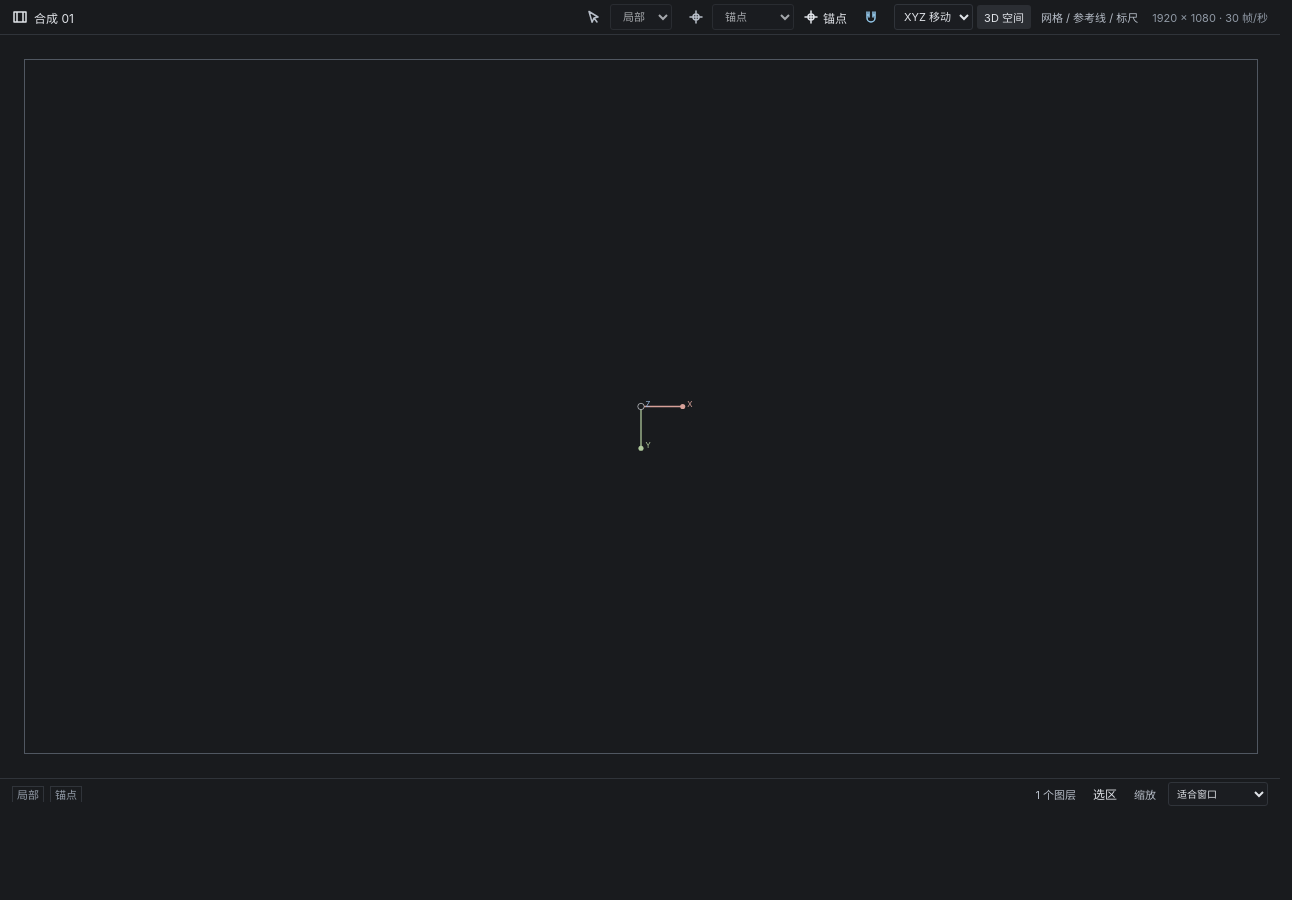
Test case: 主预览打开旁侧空间视图不改工程；辅助入口复用关闭行为与可见反馈
Click the button with aria-label "三维图层查看工具" at [1004, 17], box [977,5,1031,29]
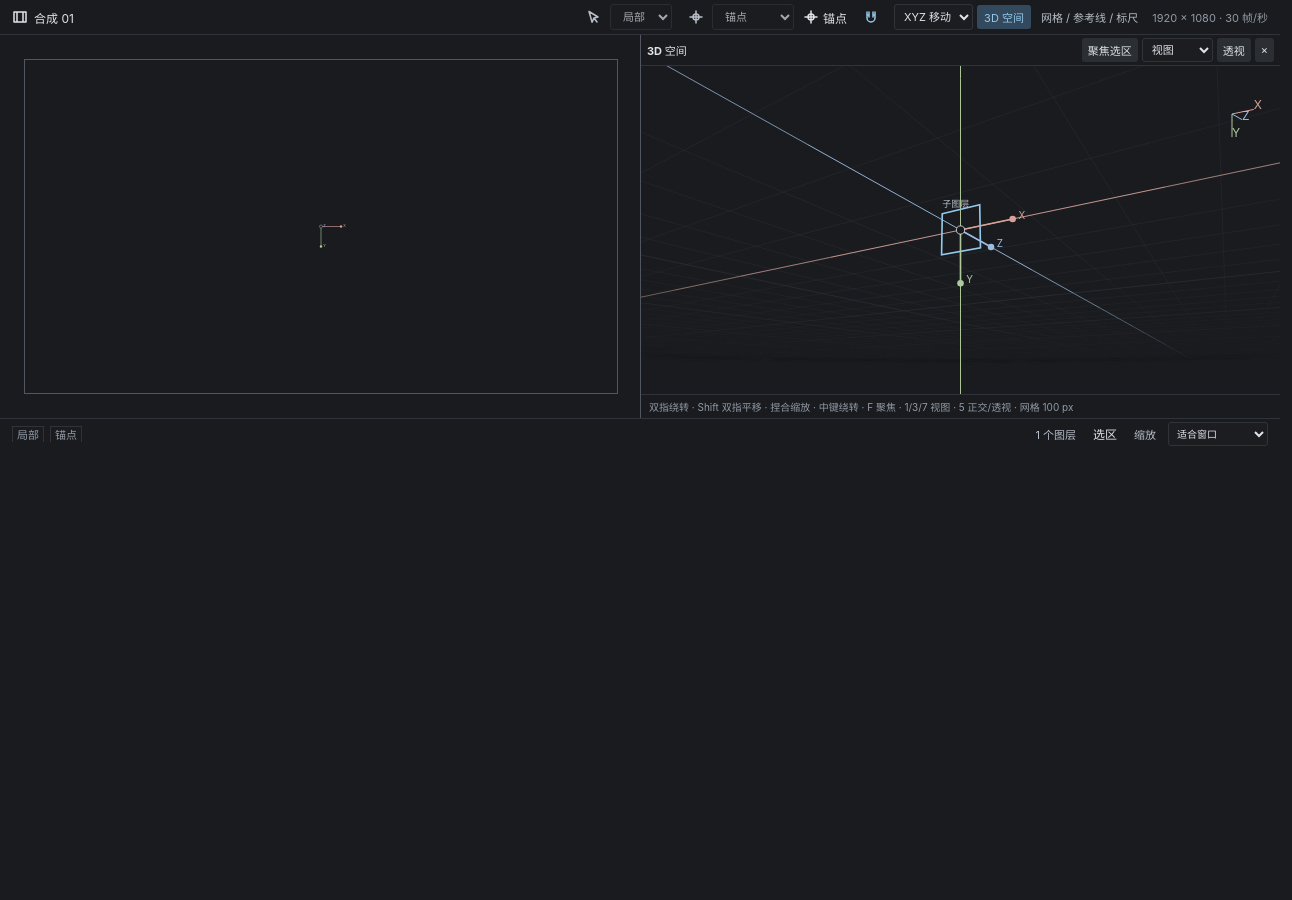
Now the element named "三维空间预览" is shown, box [640,35,1280,418]
Now the number of icons named "三维 XYZ 操控手柄" is 2, box [25,60,617,393]; [641,66,1280,394]
Now the drawing named "三维图层渲染预览" is shown, box [641,66,1280,394]
Click the heading "网格 / 参考线 / 标尺" at [1090, 18], box [1041,11,1138,25]
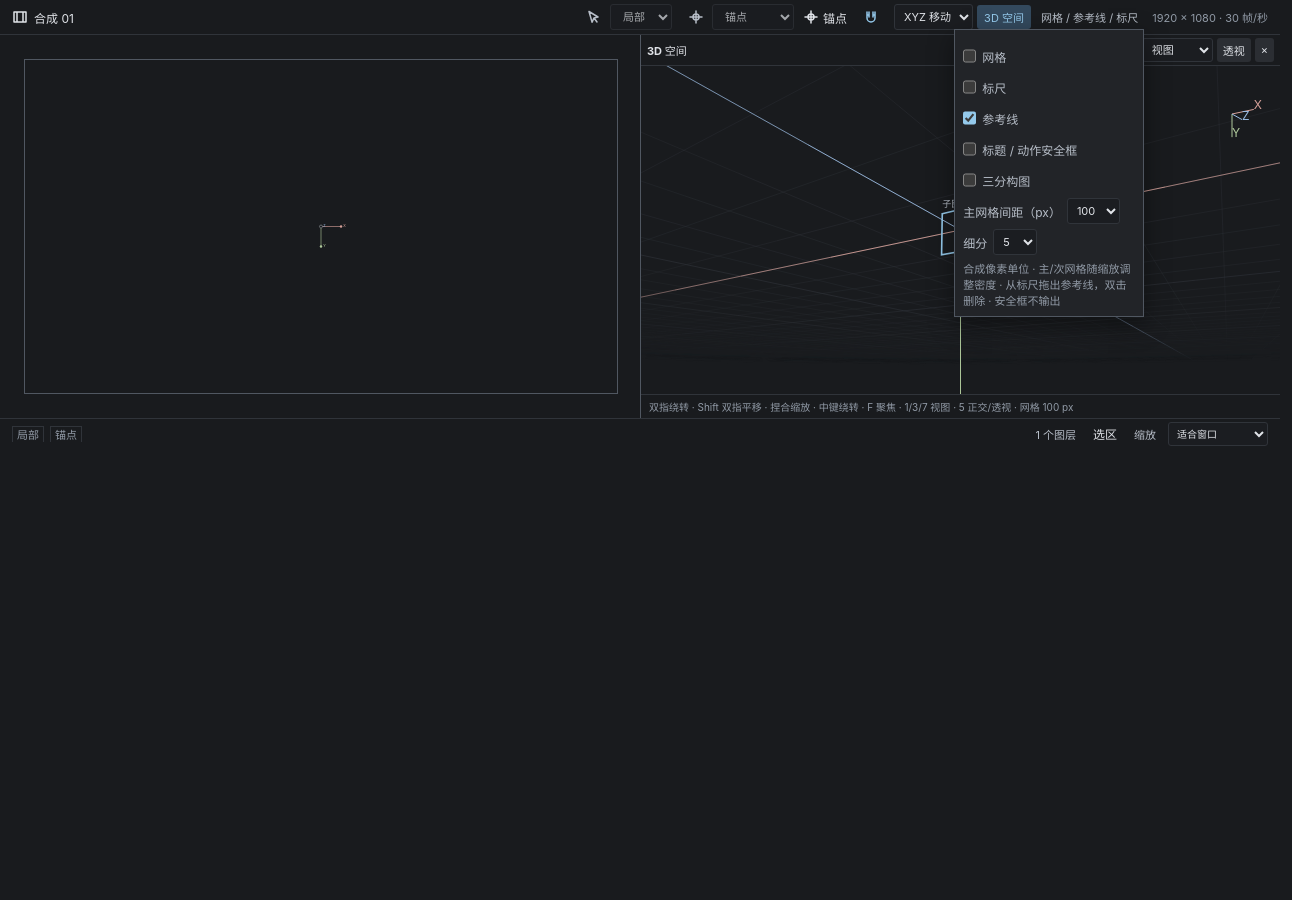
Click the checkbox labelled "网格" at [970, 56], box [963,43,976,69]
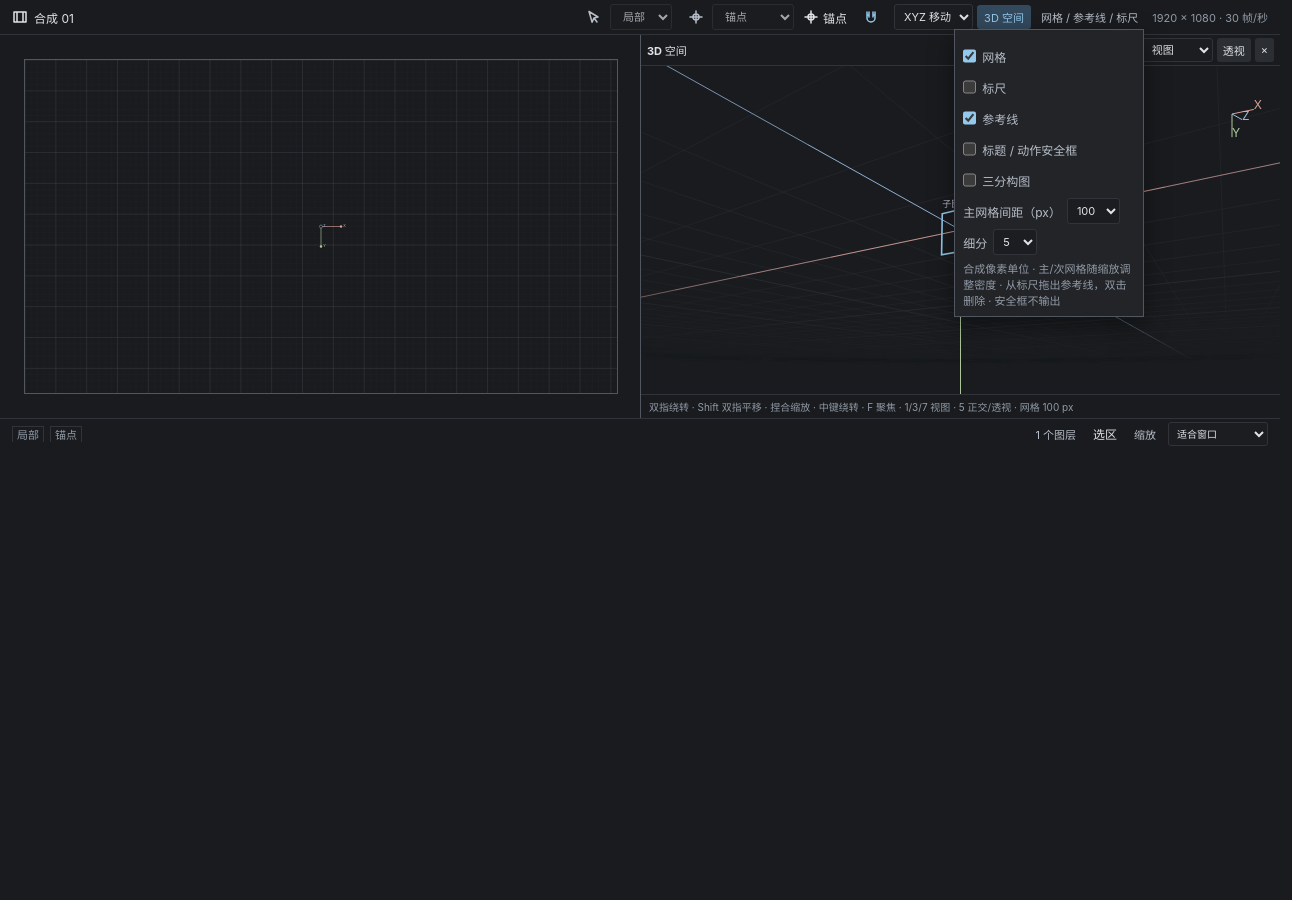
Click the checkbox labelled "标尺" at [970, 87], box [963,74,976,100]
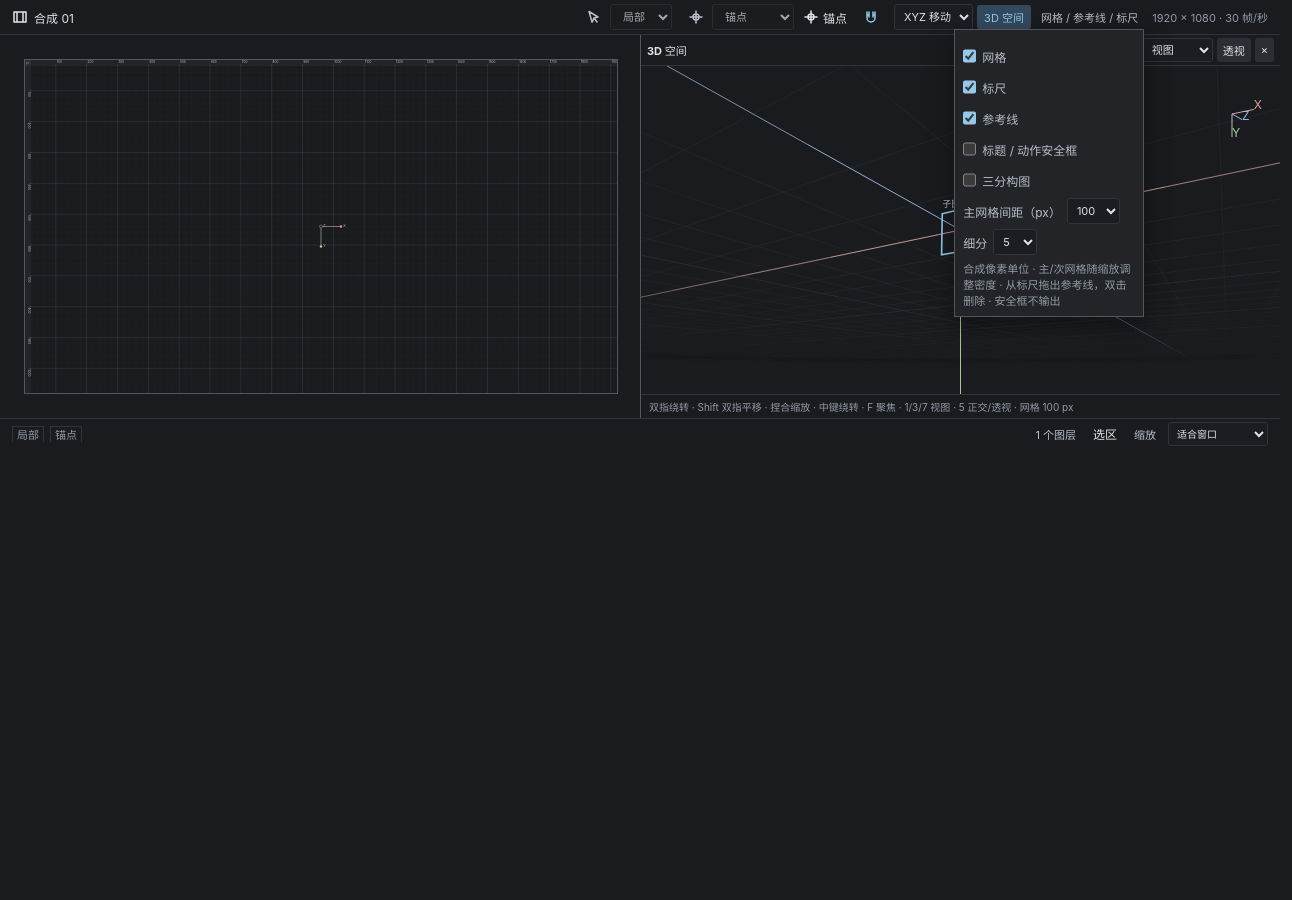
Expected: the field labelled "像素标尺" is shown, [25,60,617,393]
Press Escape in the heading "网格 / 参考线 / 标尺", box [1041,11,1138,25]
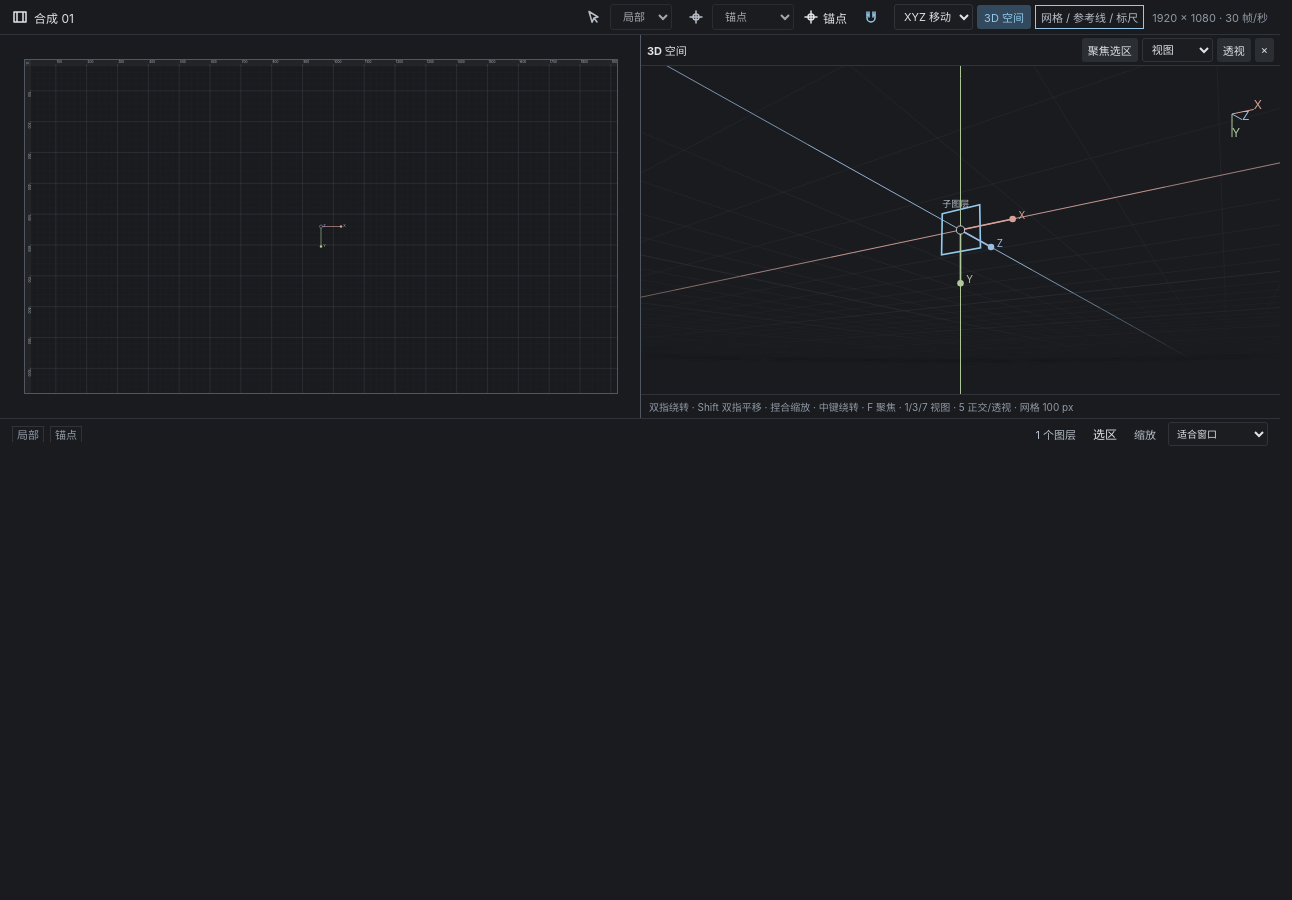
Click the button named "关闭三维空间预览" at [1264, 50], box [1255,38,1274,62]
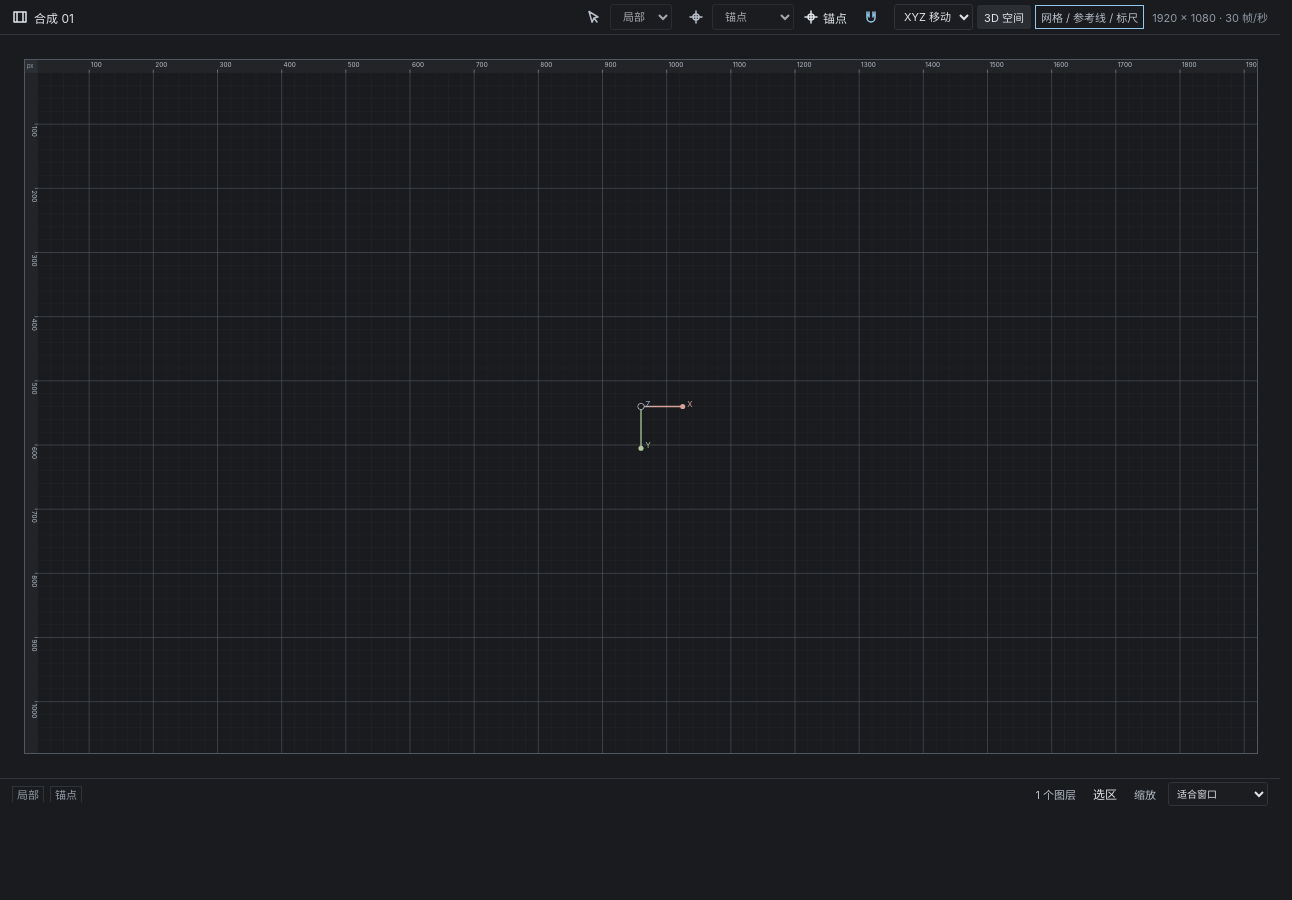
Now the field labelled "三维空间预览" is gone
